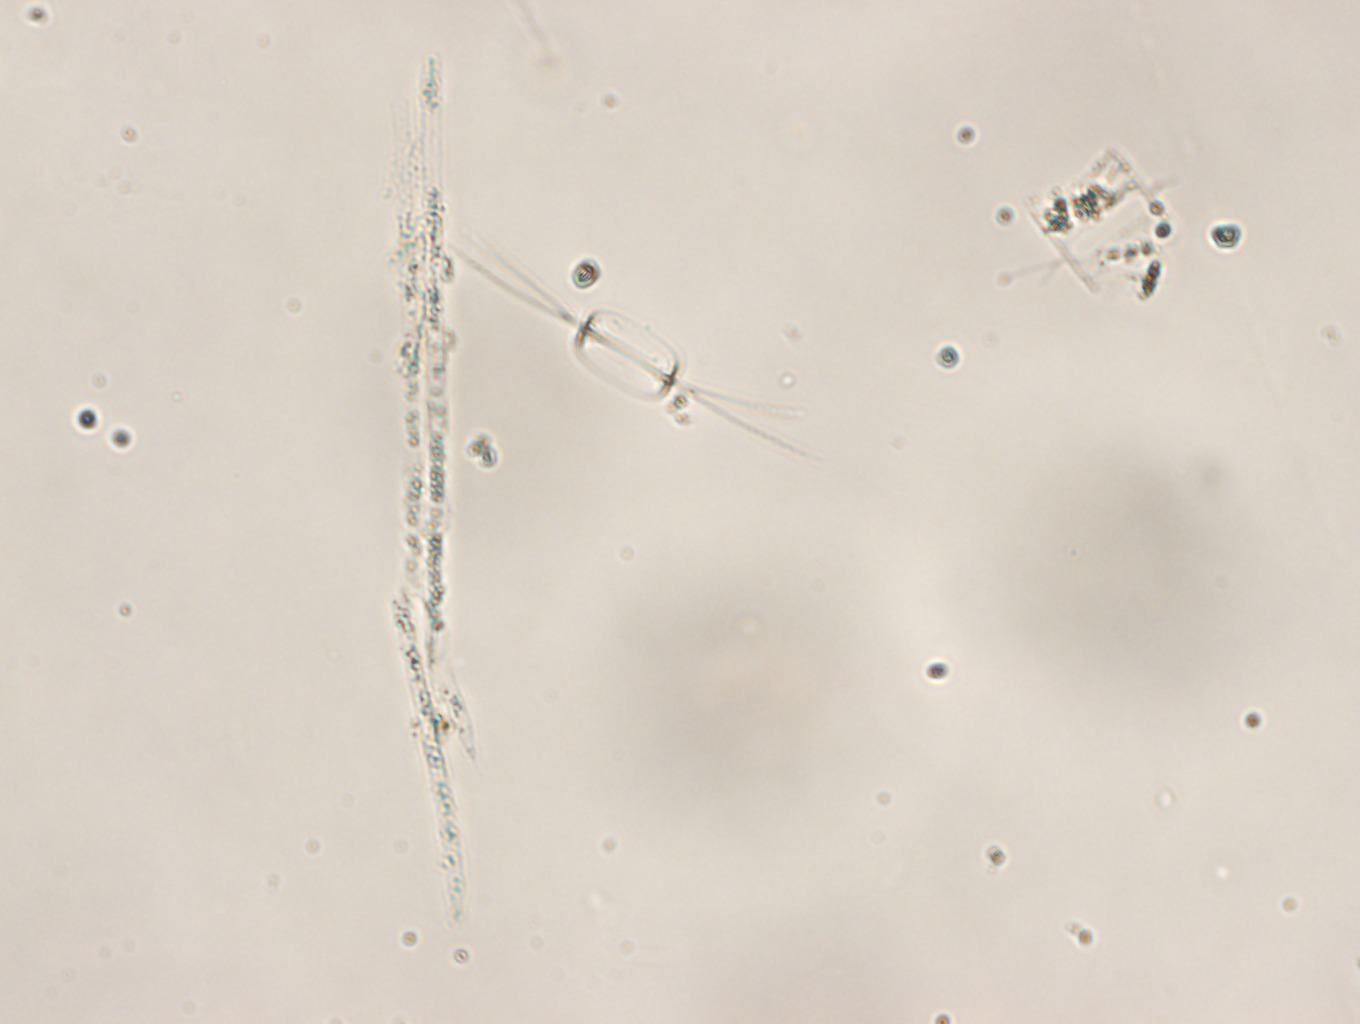chaetoceros: (443, 218, 839, 483), (984, 139, 1222, 325)
